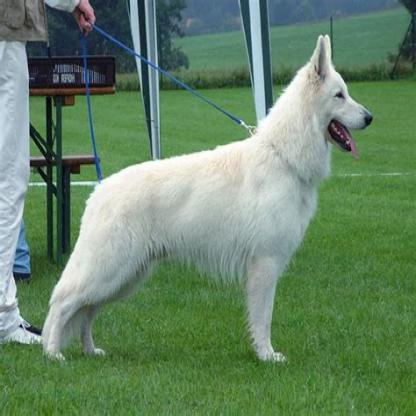dog: (41, 37, 376, 368)
